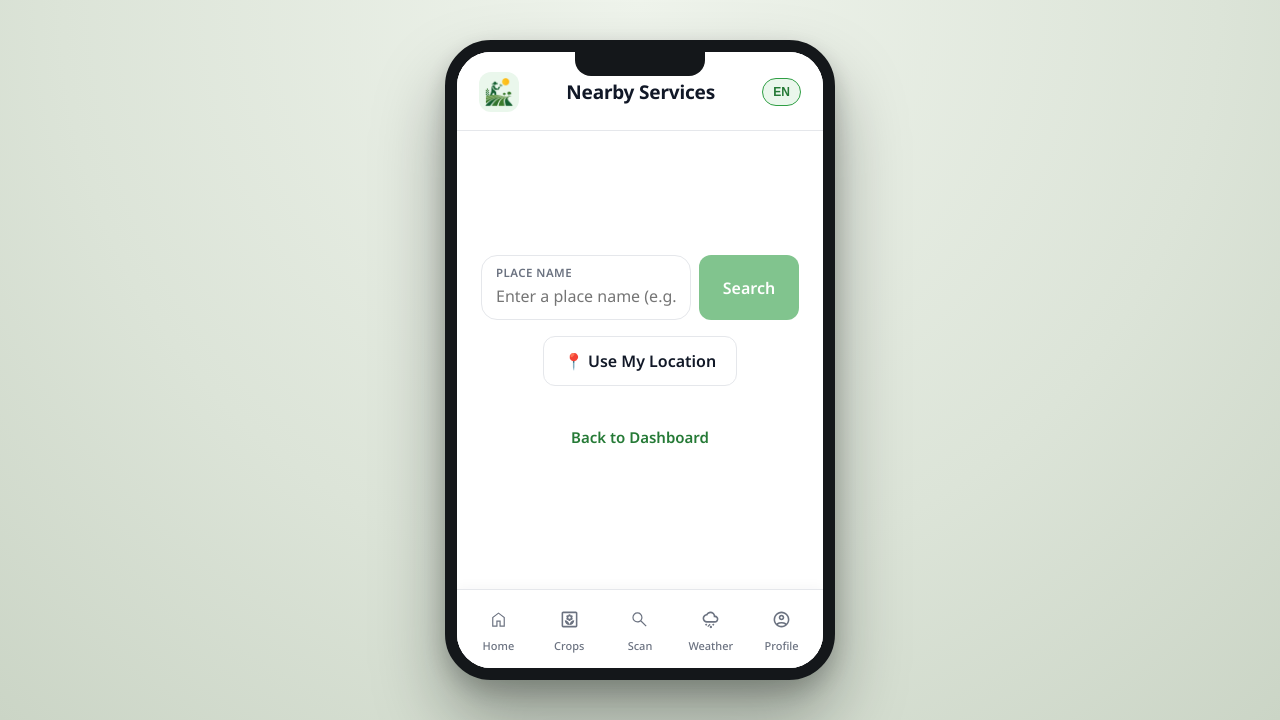
Test: LocatorPage › uses the browser's geolocation (with permission) when 'Use My Location' is clicked
The image size is (1280, 720).
Step 1. Click the button "📍 Use My Location" → coordinates (640, 361), box [543, 336, 737, 386]
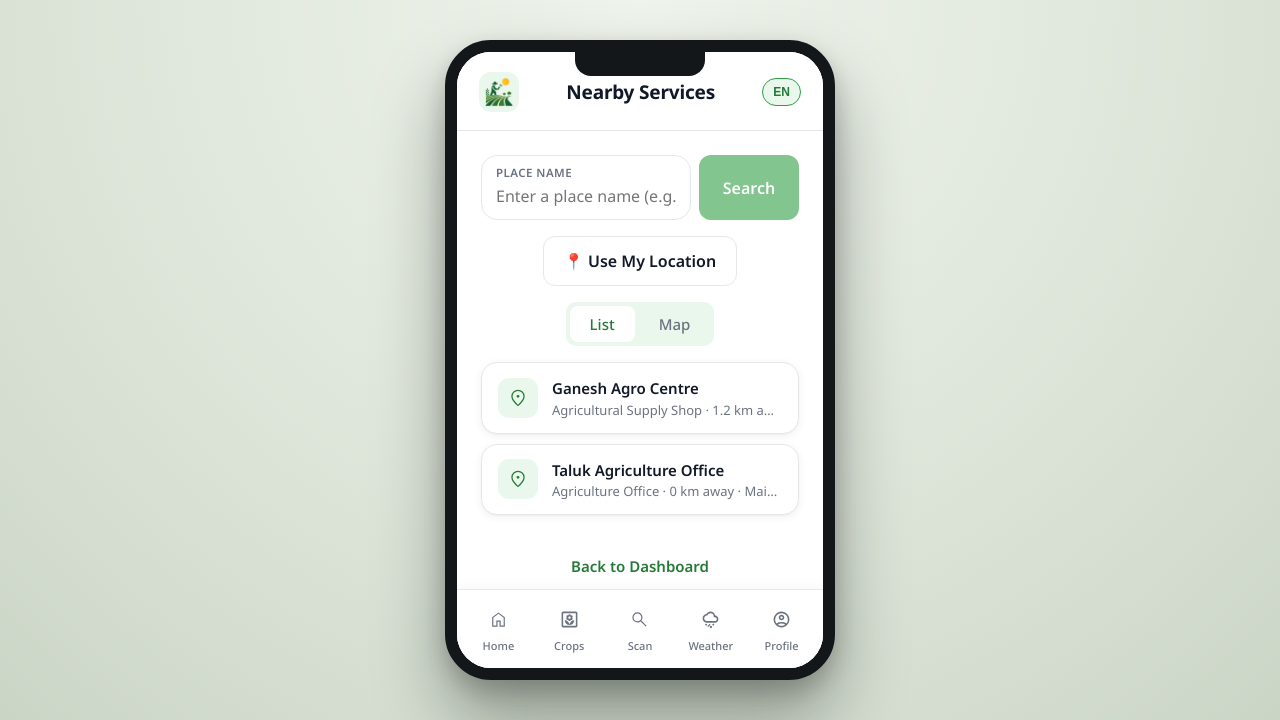
expect the text "Ganesh Agro Centre" is shown: met, box [552, 378, 699, 398]
